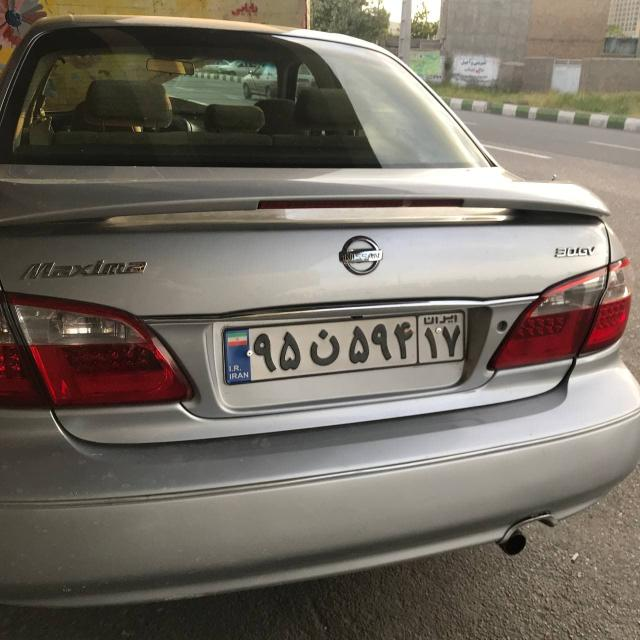Plates: (220, 305, 468, 383)
